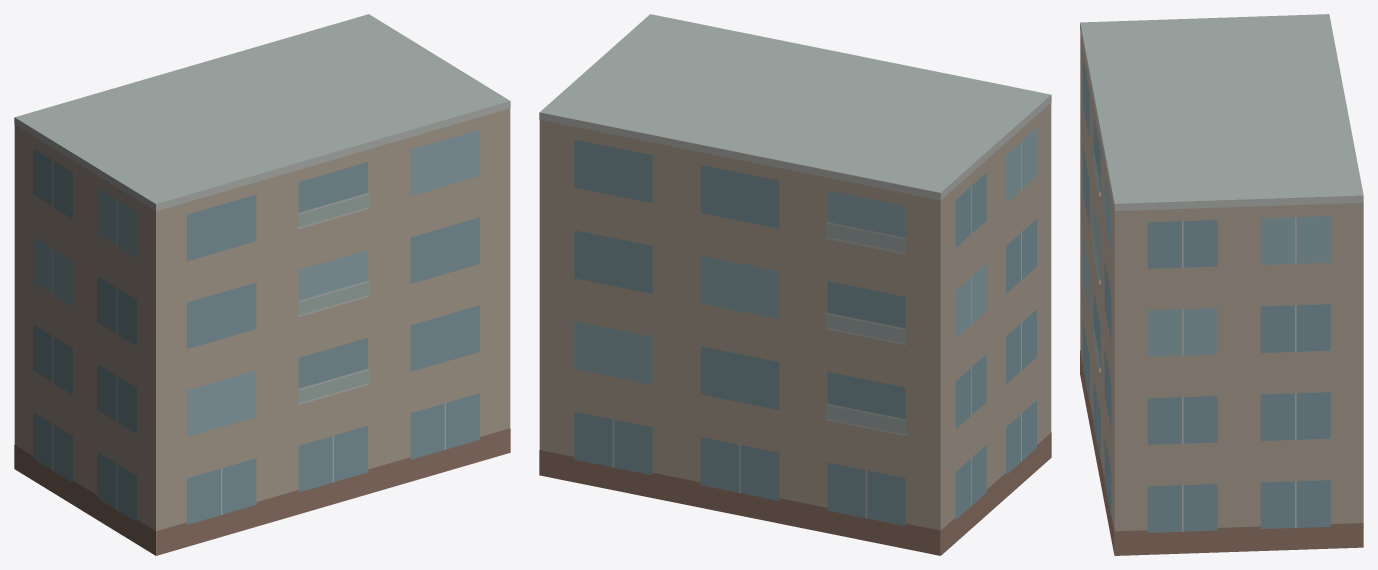
The model's file is survey-upis-32723402.glb.
3 views of the same model, side by side, from view 1: azimuth 30°, elevation 25°; view 2: azimuth 150°, elevation 25°; view 3: azimuth 270°, elevation 25° (orthographic). The views are drawn at different scales.
Visible parts, largest first — view 1: survey-upis-32723402.tmp; view 2: survey-upis-32723402.tmp; view 3: survey-upis-32723402.tmp.
Boxes of the visible parts, x1=… form: survey-upis-32723402.tmp: x1=14, y1=14, x2=510, y2=555; survey-upis-32723402.tmp: x1=539, y1=14, x2=1051, y2=555; survey-upis-32723402.tmp: x1=1080, y1=14, x2=1363, y2=555.
Size of the model in its own units: 13.66 by 11.8 by 8.62.
